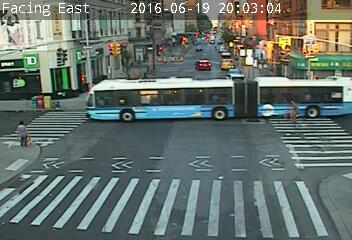neg: (281, 95, 304, 126), (118, 52, 134, 73), (255, 51, 268, 69)
pos: (9, 120, 31, 149)
